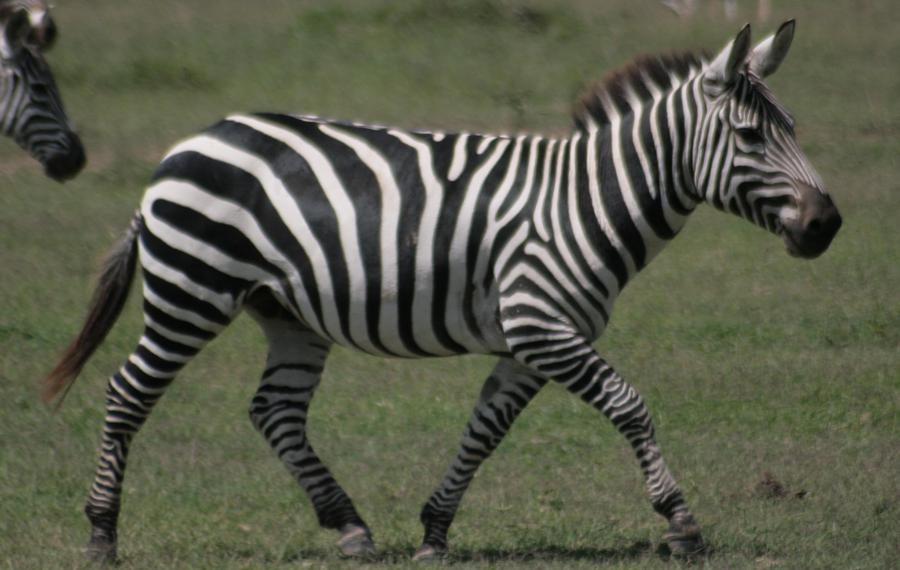zebra_plains: (132, 126, 614, 327)
